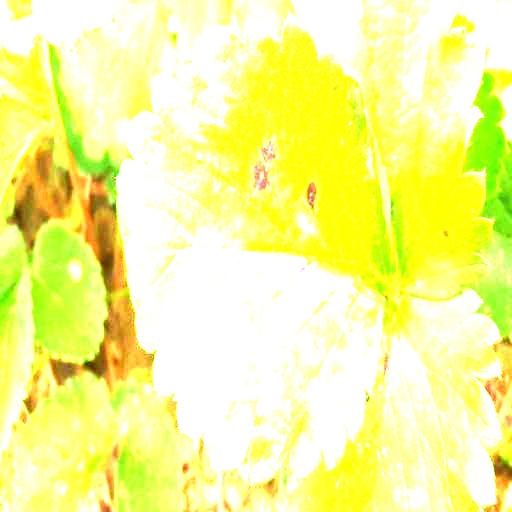Leaf Spot: (116, 12, 392, 485), (292, 0, 495, 301), (278, 288, 504, 511), (7, 370, 122, 511)
